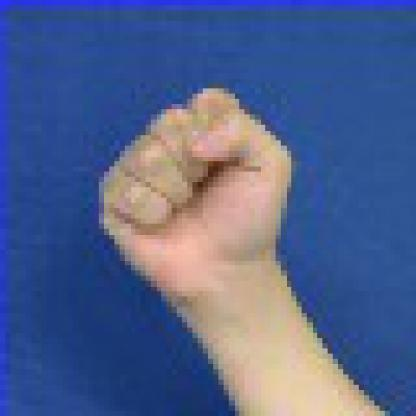zero: (78, 75, 336, 299)
